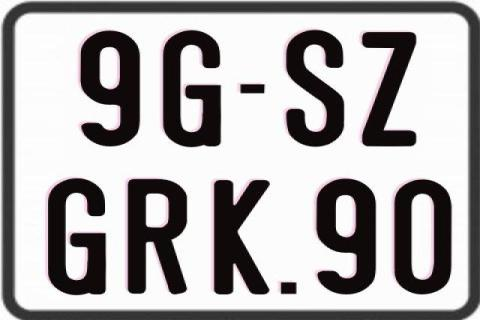0: (78, 29, 141, 145), (314, 178, 374, 294), (392, 177, 452, 293)
G: (46, 177, 107, 297), (160, 30, 221, 148)
K: (211, 179, 269, 296)
R: (128, 178, 190, 294)
S: (283, 28, 345, 148)
Z: (361, 30, 417, 148)
